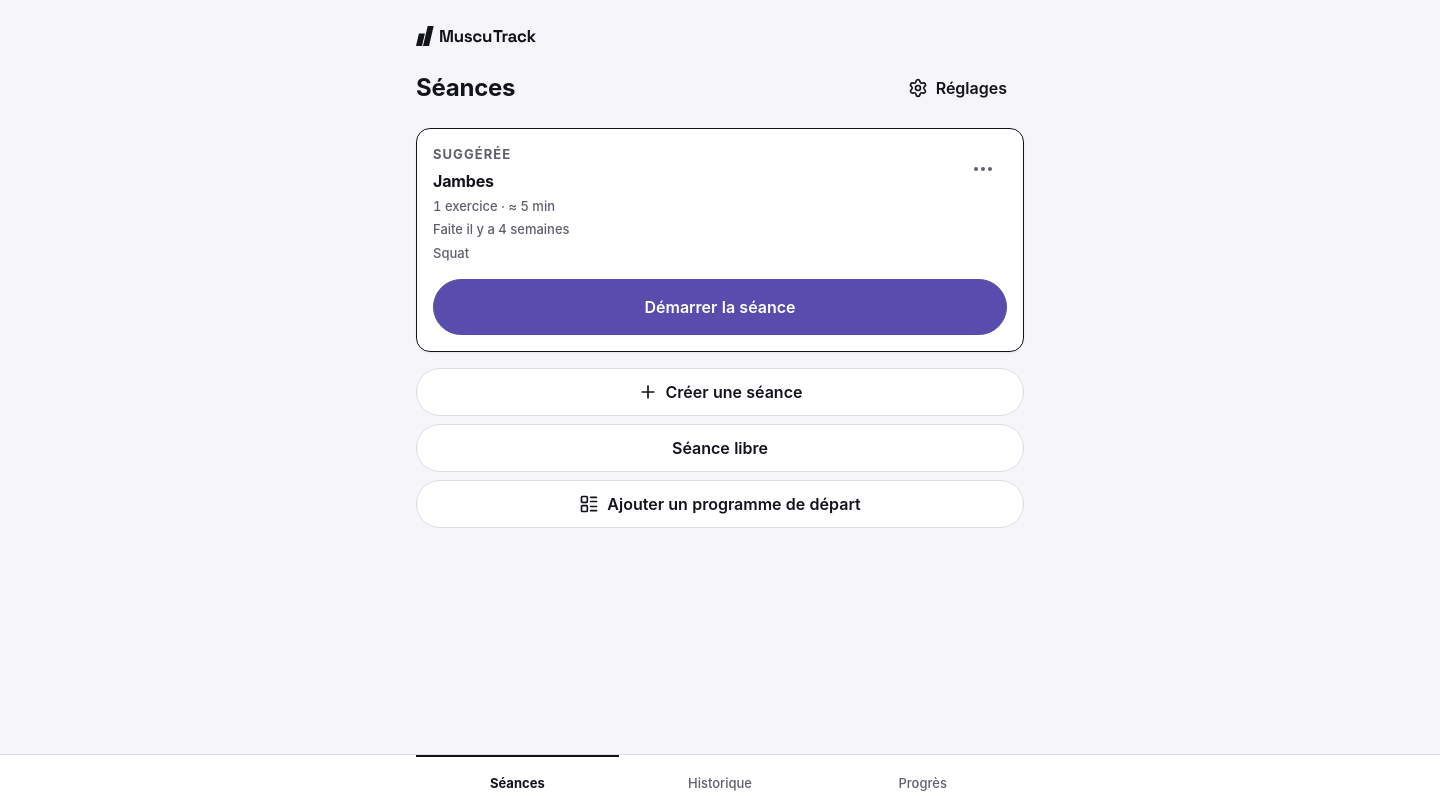
it: parcours séance › récap : record de 1RM arrondi à 0,5 kg, comme dans Progrès
This screenshot has width=1440, height=810.
Click the button with aria-label "Démarrer la séance Jambes".
click(720, 307)  # box [433, 279, 1007, 335]
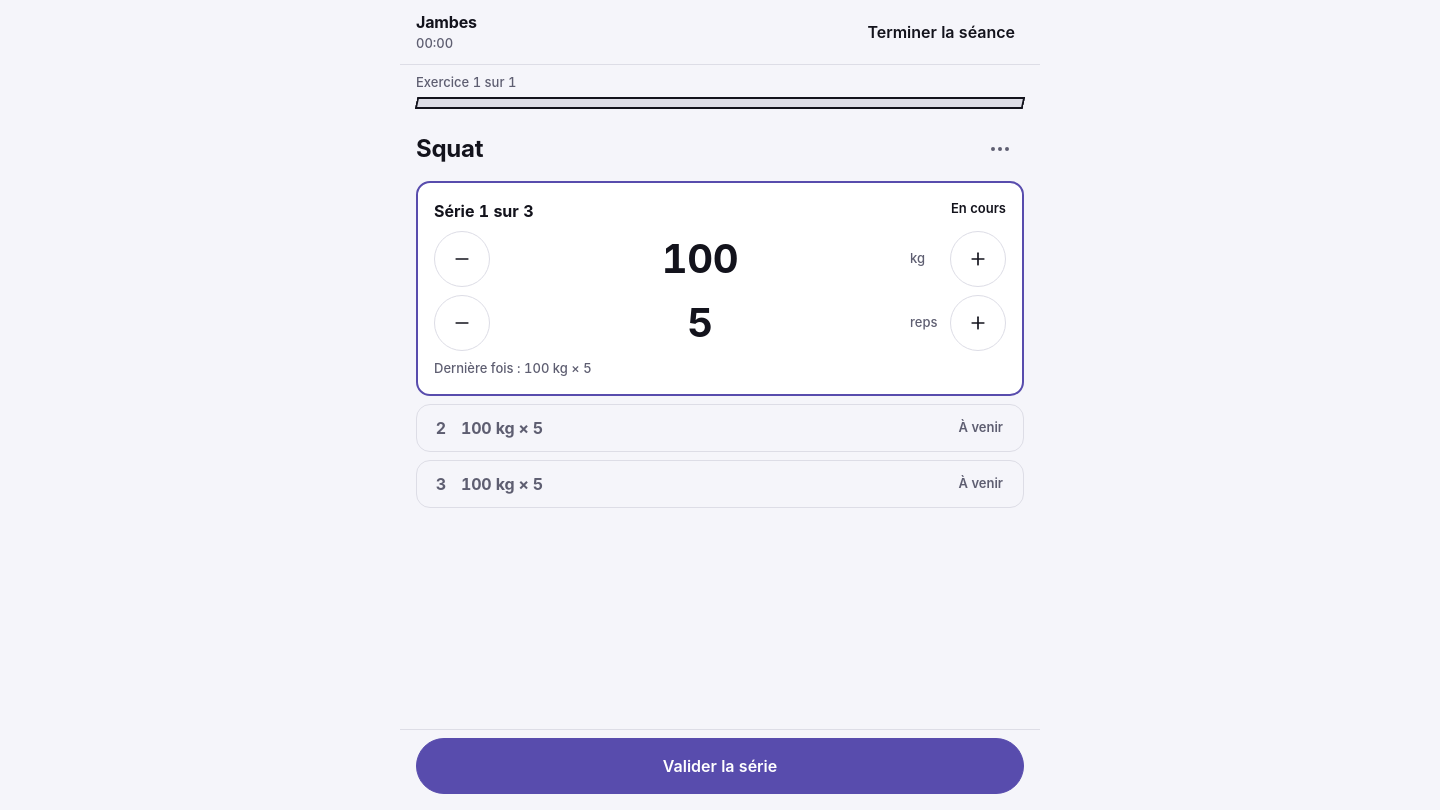
Même charge, une rep de plus : seul le 1RM (et le volume) progresse
Replace the text in the field named "Reps" next to "reps" with "7" at (700, 322), box [498, 294, 902, 350]
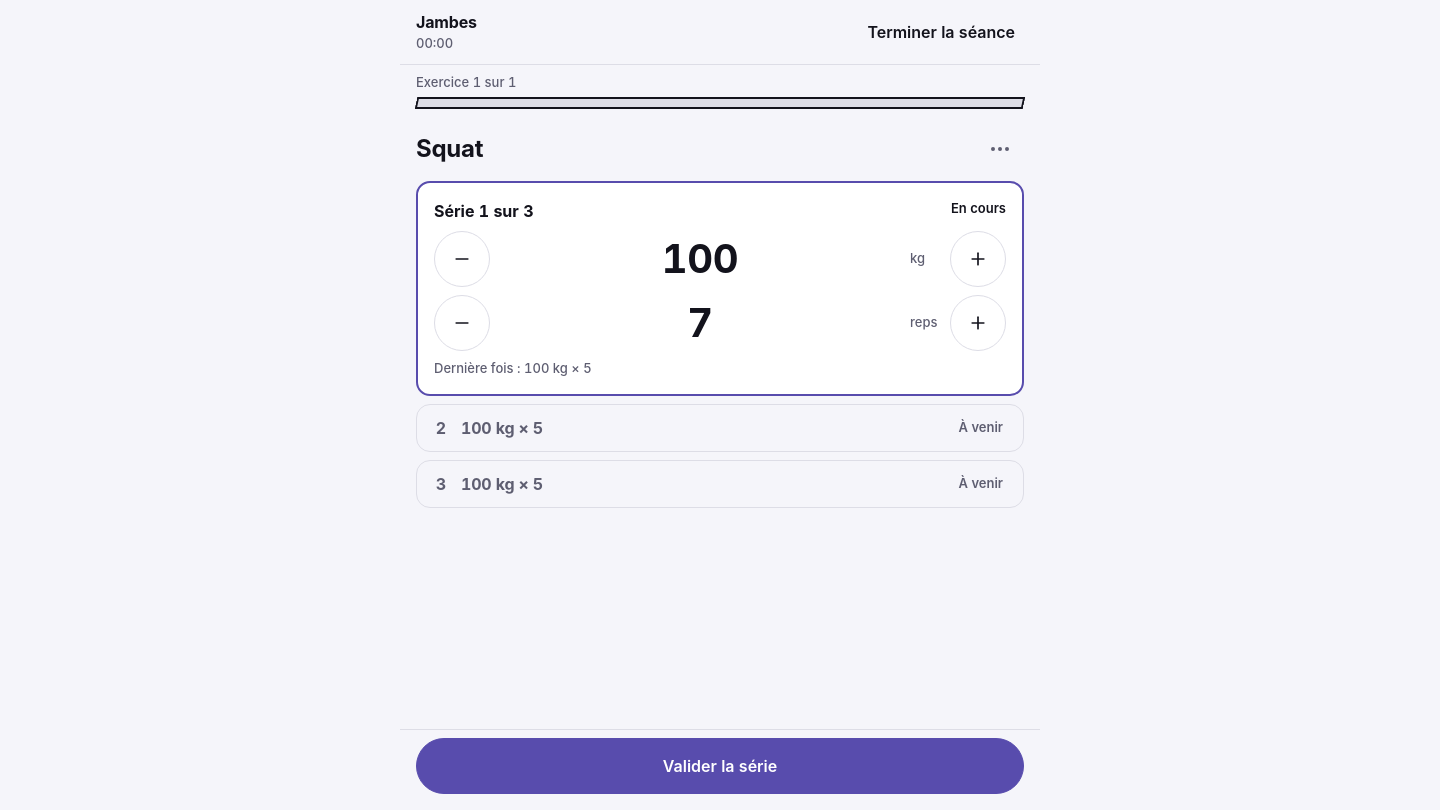
Click the button "Valider la série".
click(720, 766)  # box [416, 738, 1024, 794]
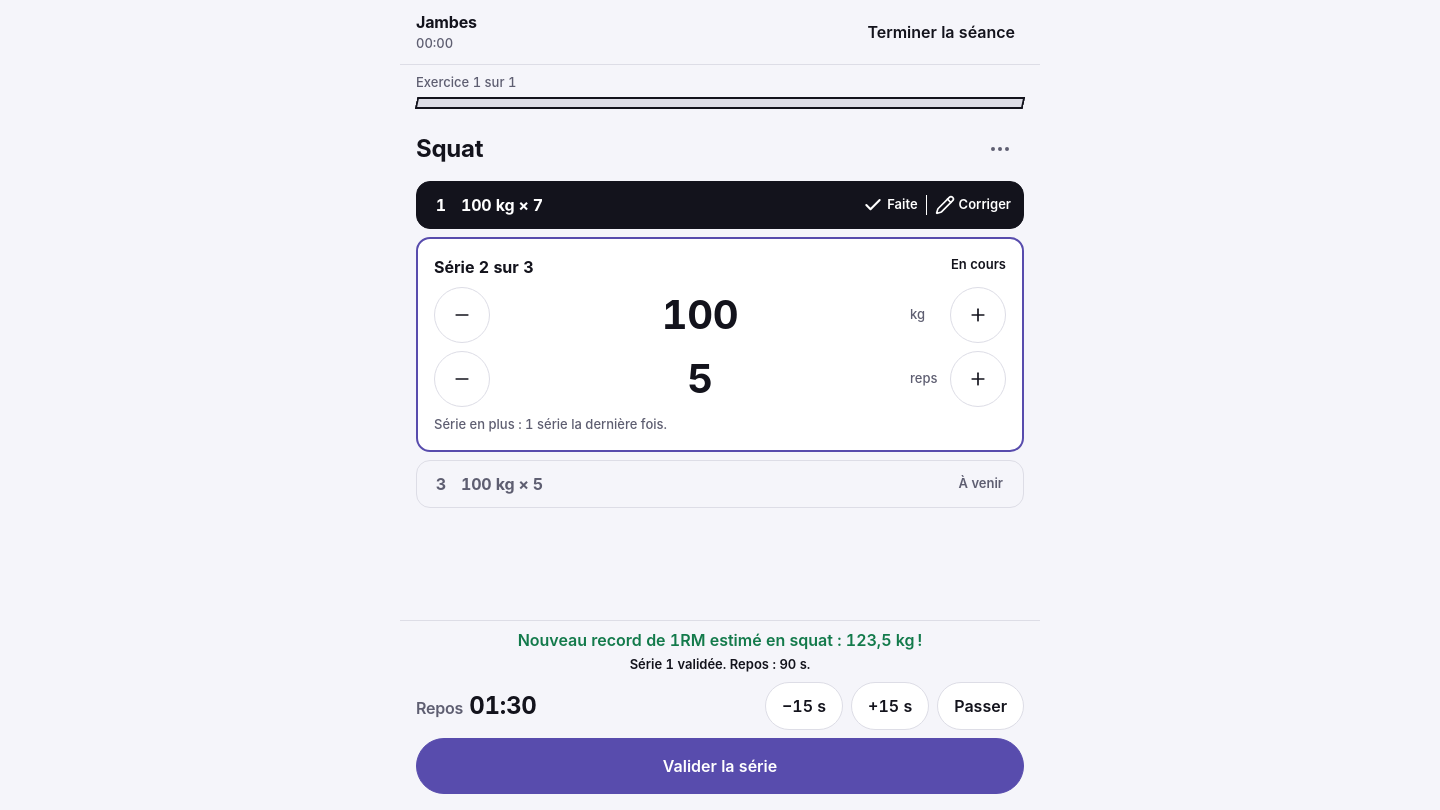
Click the button "Terminer la séance".
click(941, 32)  # box [858, 8, 1024, 56]
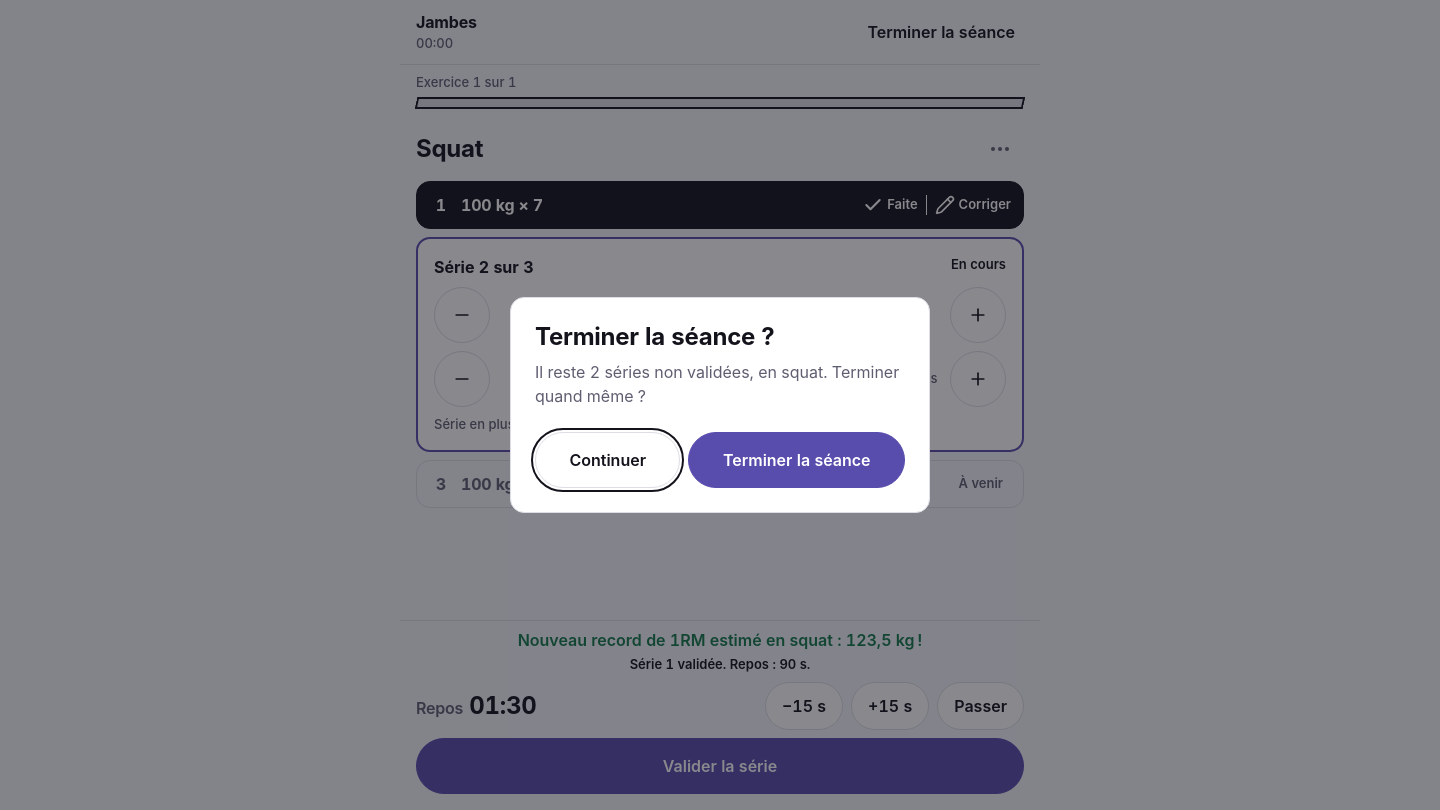
Click the button "Terminer la séance".
click(797, 460)  # box [688, 432, 905, 488]
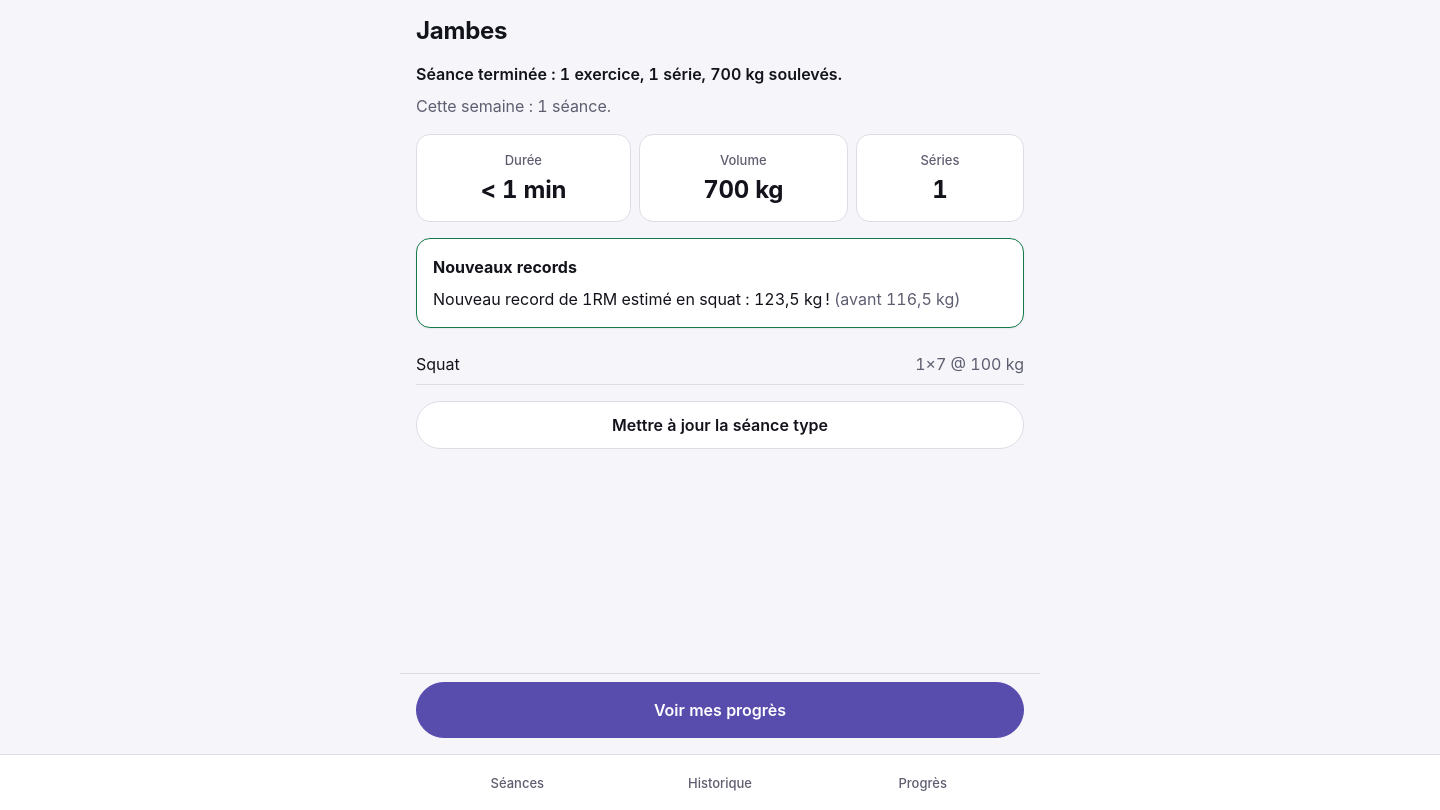
expect the list item "Nouveau record de 1RM estimé en squat : 123,5 kg !" shows "(avant 116,5 kg)": met, box [433, 286, 1007, 310]
